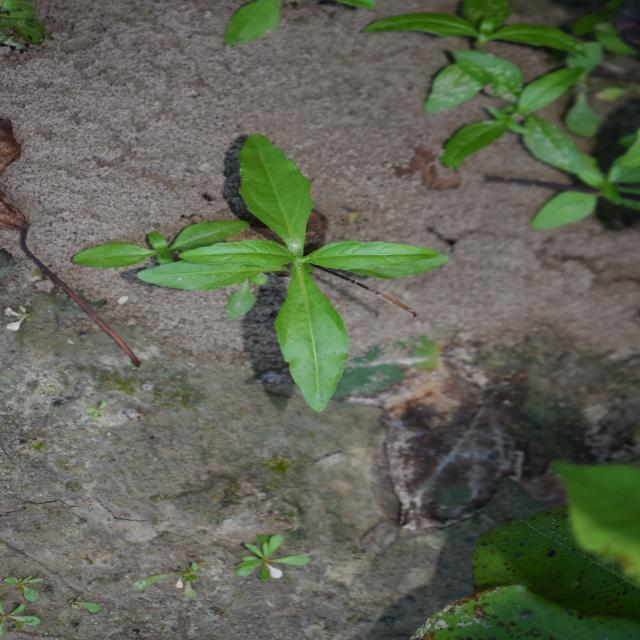Carpetweed: (233, 531, 311, 585), (129, 559, 208, 601), (2, 573, 47, 604)
Eclipta: (68, 133, 453, 414), (357, 2, 633, 231)
